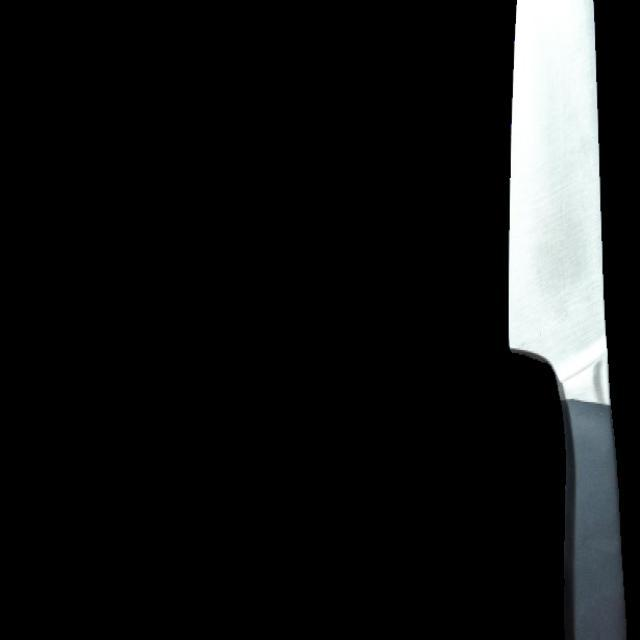knife: (510, 0, 627, 637)
